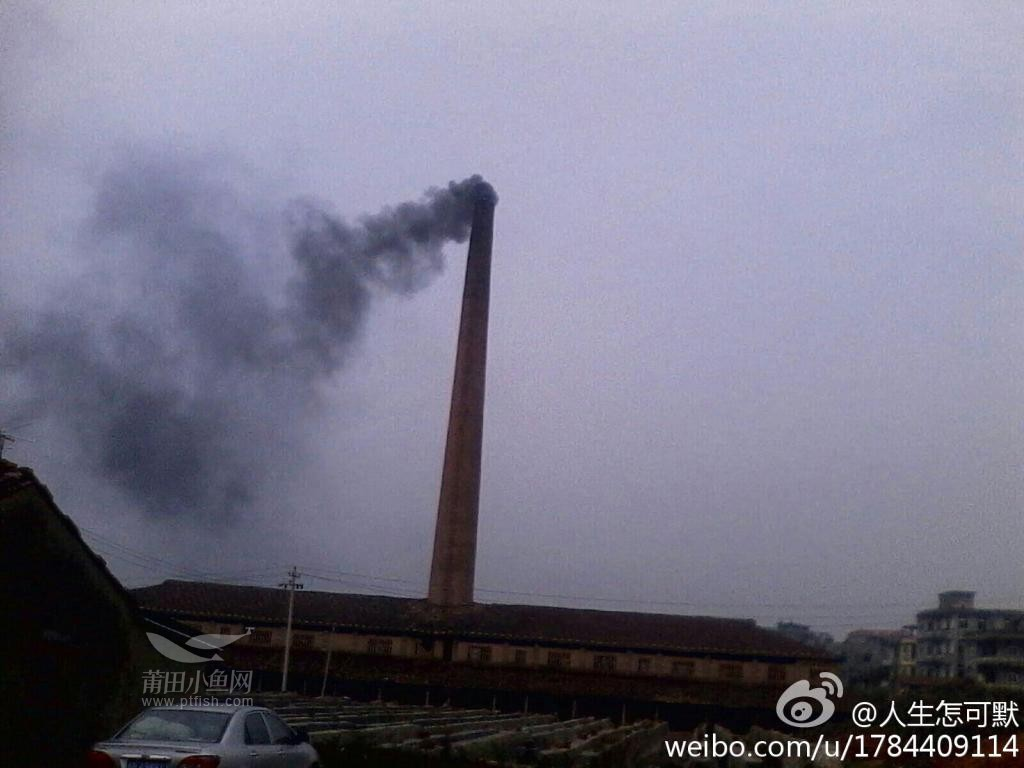dust: (332, 165, 504, 249)
